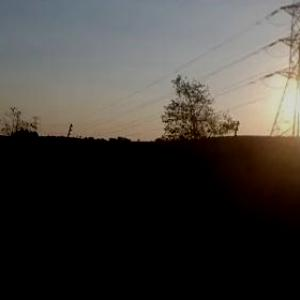follow: (113, 149, 186, 299)
